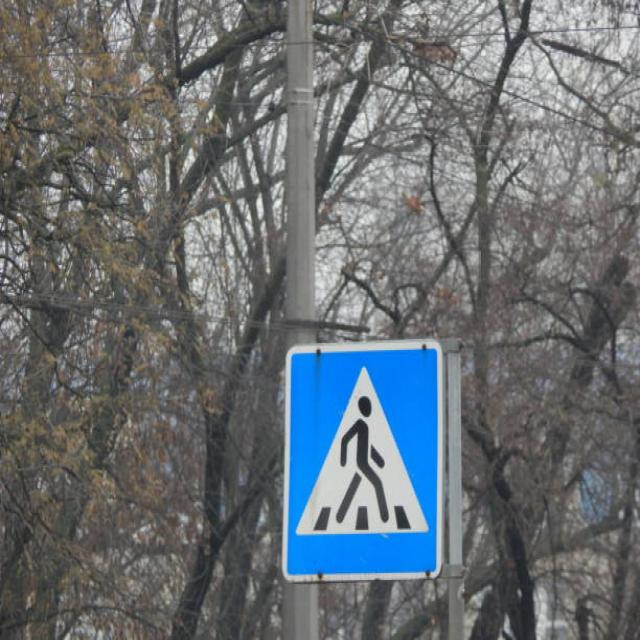crosswalk: (275, 326, 452, 589)
